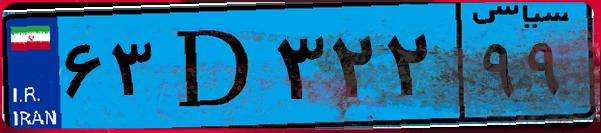2: (385, 28, 445, 110), (330, 28, 385, 110)
3: (270, 28, 330, 110), (110, 28, 158, 98)
6: (57, 26, 110, 100)
9: (475, 38, 525, 113), (525, 38, 570, 115)
D: (158, 12, 270, 120)
